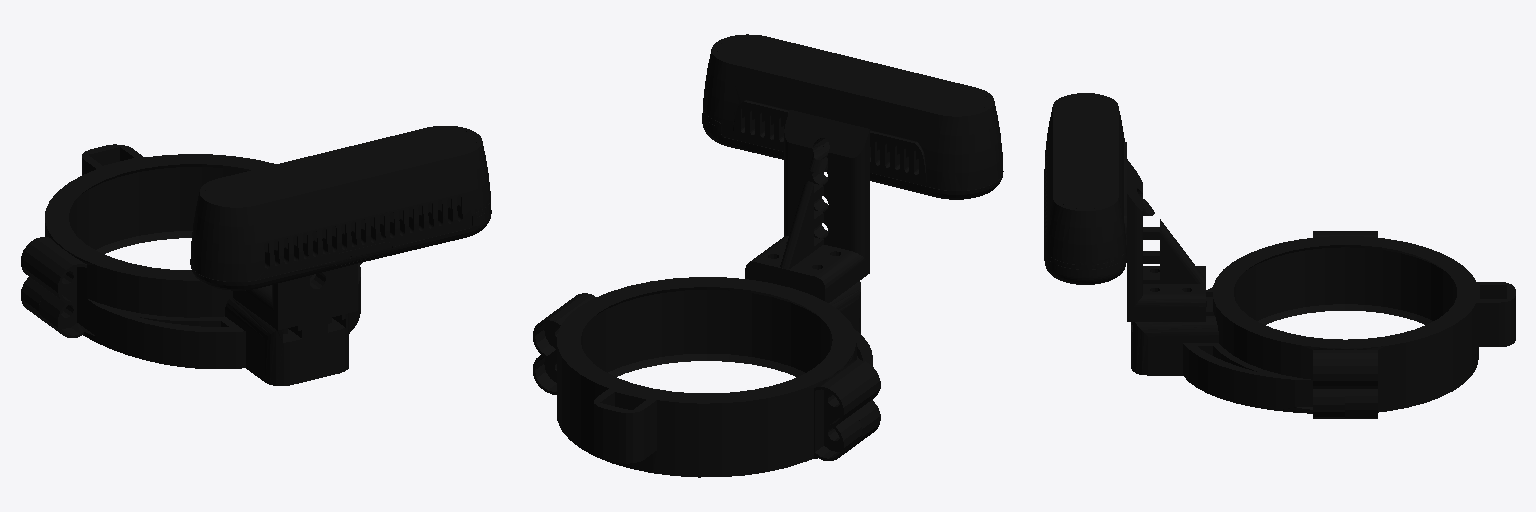
URDF robot description (IRS):
<?xml version="1.0" encoding="utf-8"?>
<!-- This URDF was automatically created by SolidWorks to URDF Exporter! Originally created by [author] ([email redacted]) 
     Commit Version: 1.5.1-0-g916b5db  Build Version: 1.5.7152.31018
     For more information, please see http://wiki.ros.org/sw_urdf_exporter -->
<robot
  name="IRS">
  <link
    name="base_link">
    <inertial>
      <origin
        xyz="-5.63523176784644E-07 -0.00108878063396016 0.0123412189762314"
        rpy="0 0 0" />
      <mass
        value="0.0470666748718791" />
      <inertia
        ixx="1.3879830300452E-05"
        ixy="-1.47891140862479E-11"
        ixz="-5.39694360742728E-11"
        iyy="4.36044503912351E-05"
        iyz="6.54133856756778E-07"
        izz="3.32416203172708E-05" />
    </inertial>
    <visual>
      <origin
        xyz="0 0 0"
        rpy="0 0 0" />
      <geometry>
        <mesh
          filename="package://IRS/meshes/base_link.STL" />
      </geometry>
      <material
        name="">
        <color
          rgba="0.101960784313725 0.101960784313725 0.101960784313725 1" />
      </material>
    </visual>
    <collision>
      <origin
        xyz="0 0 0"
        rpy="0 0 0" />
      <geometry>
        <mesh
          filename="package://IRS/meshes/base_link.STL" />
      </geometry>
    </collision>
  </link>
  <link
    name="Link_1">
    <inertial>
      <origin
        xyz="-0.000196117482437084 0.0406588508218562 0.0329622926046537"
        rpy="0 0 0" />
      <mass
        value="0.0538582887407261" />
      <inertia
        ixx="5.58983226686998E-06"
        ixy="-2.45410121434724E-07"
        ixz="4.96925374119221E-09"
        iyy="2.81822837923353E-05"
        iyz="-3.97956641866437E-07"
        izz="2.89916984968694E-05" />
    </inertial>
    <visual>
      <origin
        xyz="0 0 0"
        rpy="0 0 0" />
      <geometry>
        <mesh
          filename="package://IRS/meshes/Link_1.STL" />
      </geometry>
      <material
        name="">
        <color
          rgba="0.101960784313725 0.101960784313725 0.101960784313725 1" />
      </material>
    </visual>
    <collision>
      <origin
        xyz="0 0 0"
        rpy="0 0 0" />
      <geometry>
        <mesh
          filename="package://IRS/meshes/Link_1.STL" />
      </geometry>
    </collision>
  </link>
  <joint
    name="guia"
    type="prismatic">
    <parent
      link="base_link" />
    <child
      link="Link_1" />
    <origin
      xyz="0 -0.054291 0"
      rpy="1.5708 0 0" />
    <axis
      xyz="0 0 1" />
    <limit
      lower="0"
      upper="0.015"
      effort="0.1"
      velocity="0.005" />
  </joint>
</robot>

--- Render facts (derived) ---
The picture shows the robot from 3 angles, left to right: view 1: azimuth 30°, elevation 25°; view 2: azimuth 150°, elevation 25°; view 3: azimuth 270°, elevation 25°; orthographic projection.
Model IRS with 2 links and 1 joints (1 prismatic), rooted at base_link, posed all joints at 0.
Visible links, largest first — view 1: base_link, Link_1; view 2: base_link, Link_1; view 3: base_link, Link_1.
Link boxes in pixels (<box>): base_link: <box>21,144,362,385</box>; Link_1: <box>190,126,491,330</box>; base_link: <box>533,277,880,477</box>; Link_1: <box>702,34,1003,302</box>; base_link: <box>1131,231,1515,418</box>; Link_1: <box>1044,93,1205,321</box>.
Size in the robot's own frame: 0.097 by 0.143 by 0.0689 metres.
Meshes: 2 distinct files referenced, 2 mesh visuals loaded (2 binary STL).